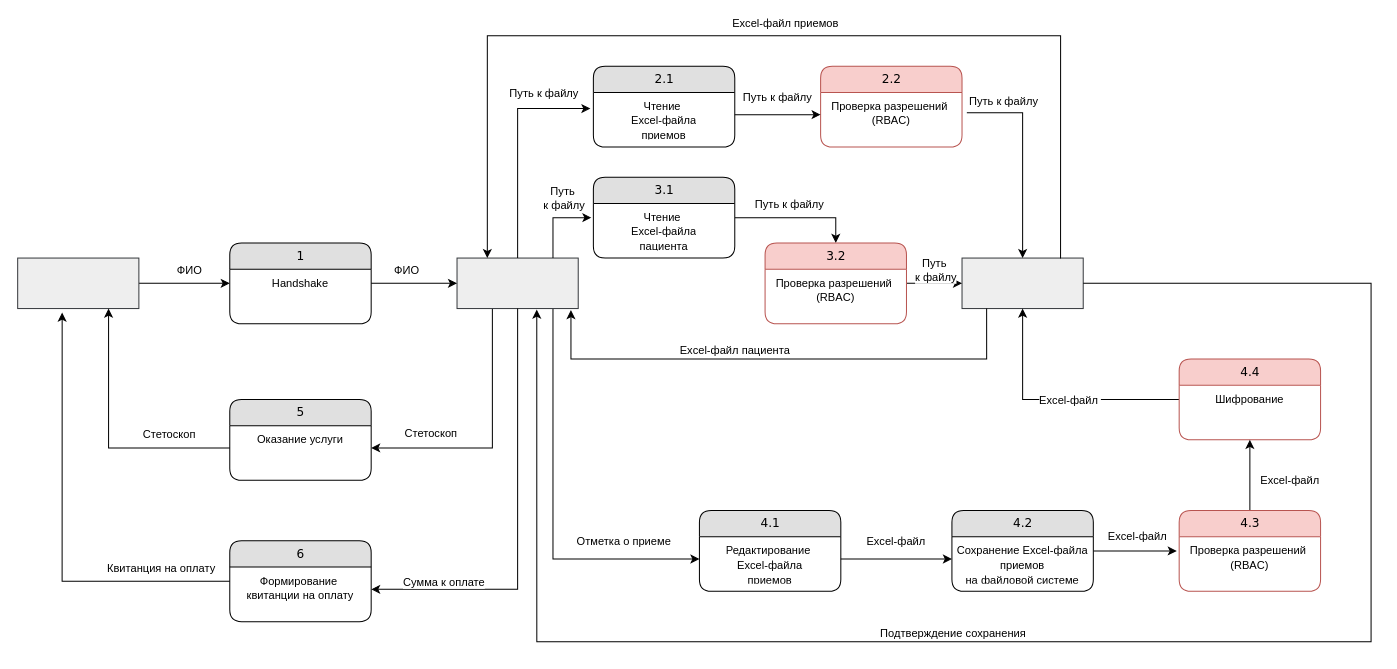
Some shapes in this 1397 by 669 pixel diagram are drawn without their labels. Each missing label, with the centre of its shape:
"Доктор" goes at [517,283].
"Пациент" goes at [78,283].
"Файловая система" goes at [1022,283].
